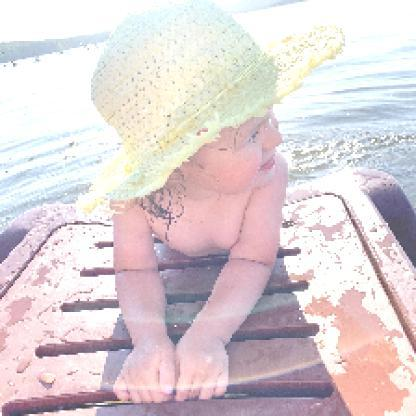child: (77, 2, 347, 407)
